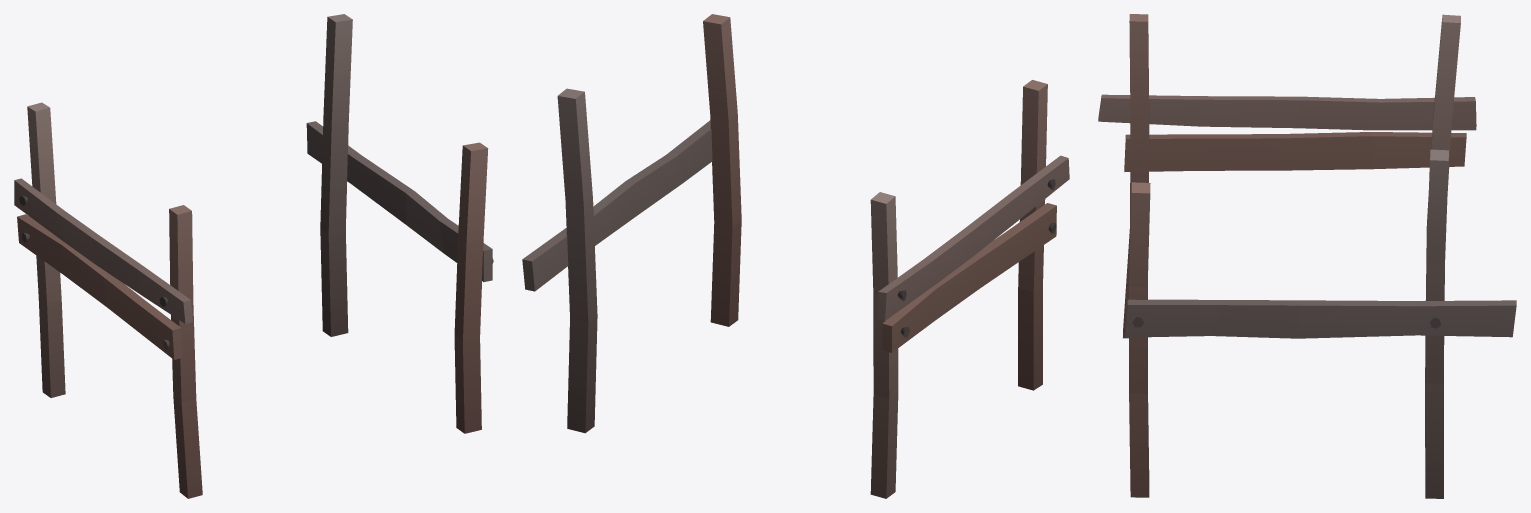
The model's file is Apocalypse_Car_01_Armor_05.fbx.
The picture shows the model from 3 angles, left to right: view 1: azimuth 30°, elevation 25°; view 2: azimuth 150°, elevation 25°; view 3: azimuth 270°, elevation 25°; orthographic projection. The views are drawn at different scales.
Visible parts, largest first — view 1: Apocalypse_Car_01_Armor_05; view 2: Apocalypse_Car_01_Armor_05; view 3: Apocalypse_Car_01_Armor_05.
Boxes of the visible parts, left/top/right/bottom form: Apocalypse_Car_01_Armor_05: left=14, top=14, right=493, bottom=498; Apocalypse_Car_01_Armor_05: left=522, top=14, right=1069, bottom=498; Apocalypse_Car_01_Armor_05: left=1098, top=14, right=1516, bottom=498.
Bounding box in the file's own units: 185 × 185 × 168.
